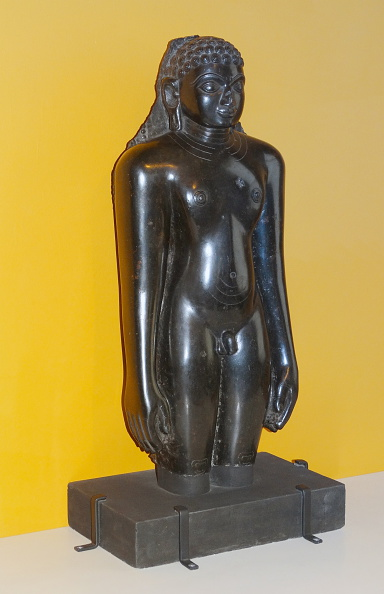em pe: (124, 8, 287, 359)
